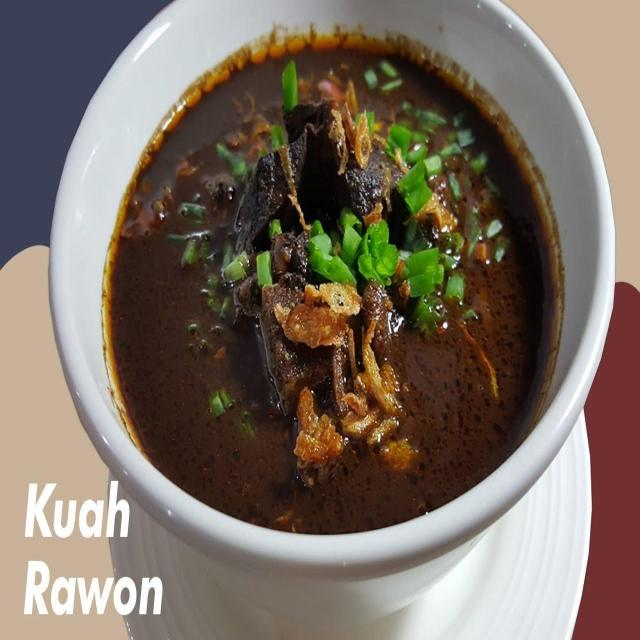Rawon: (102, 8, 551, 539)
